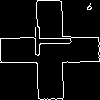T: (25, 25, 72, 57)
